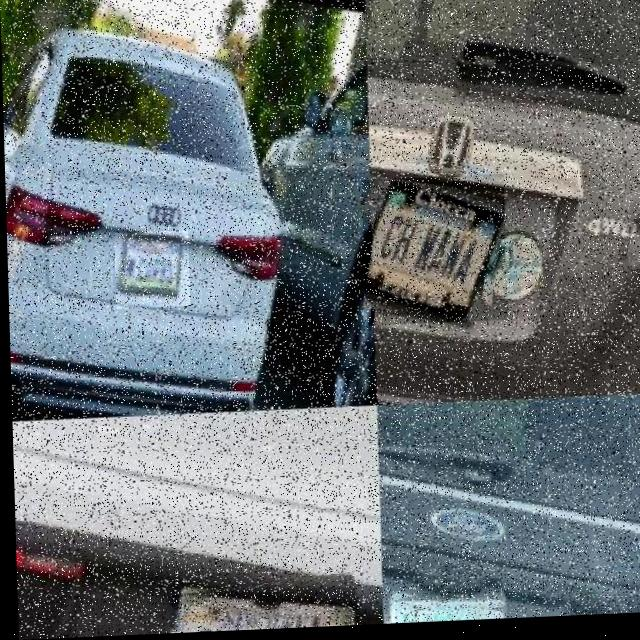LicensePlate: (364, 183, 504, 326), (169, 596, 355, 635), (113, 232, 189, 310), (386, 605, 503, 627)
